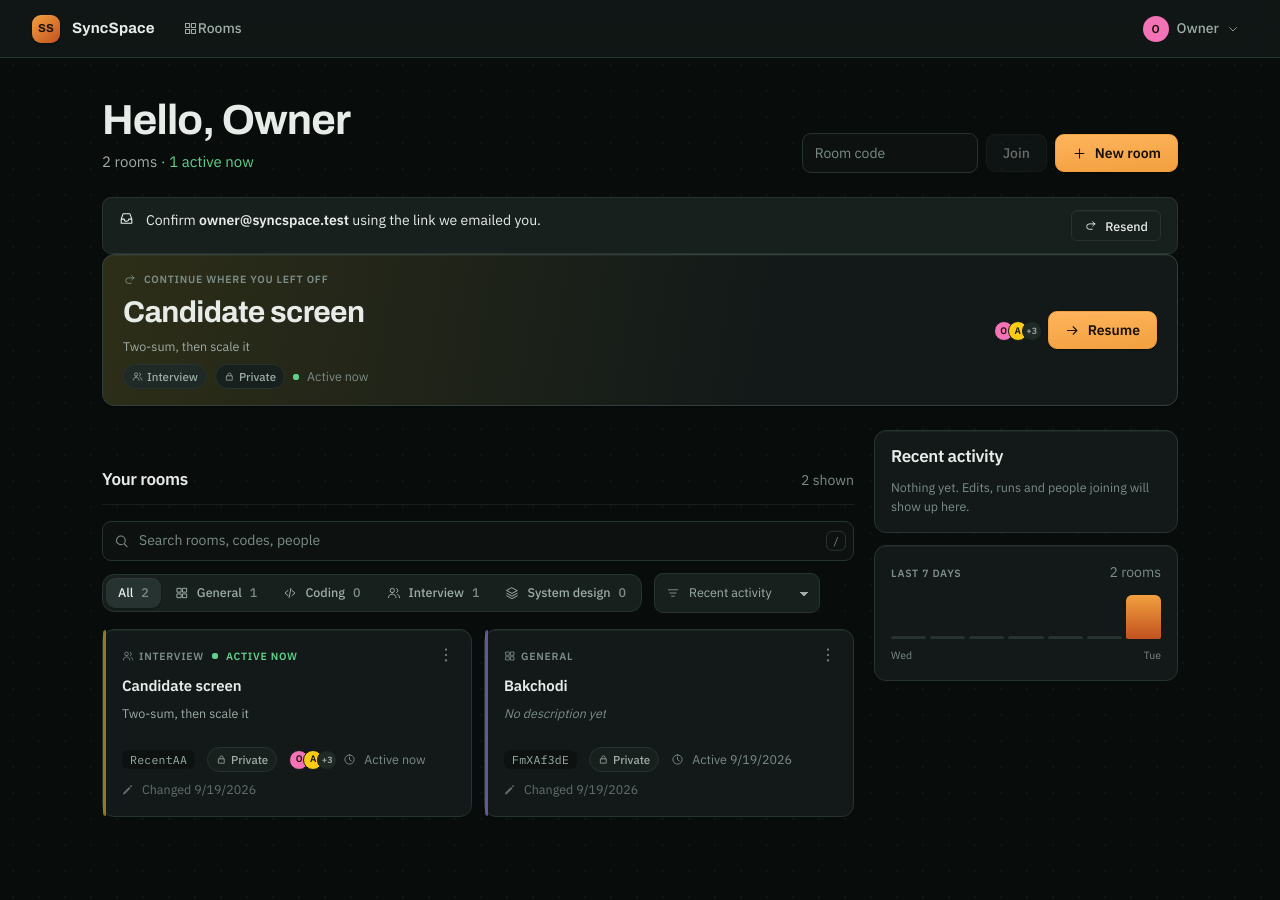
Scenario: dashboard as a workspace › filters by what a room is for
The width and height of the screenshot is (1280, 900).
Expected: the text "Bakchodi" is shown, [504,674,568,697]
What coordinates should you click on to do the following:
click the tab "Interview 1"
I would click on:
 (433, 593)
Its box is [374,578,491,608].
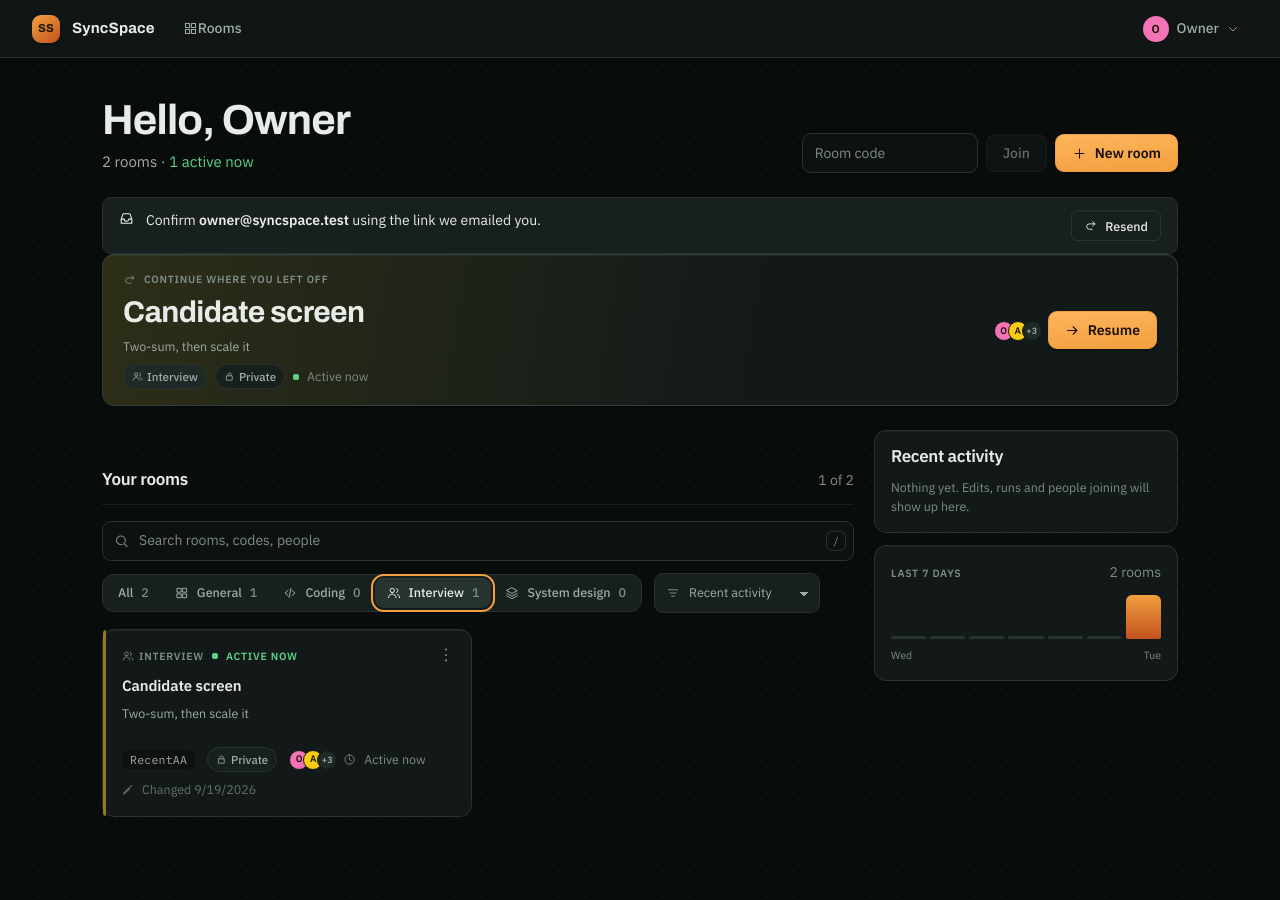
Expected: the text "Candidate screen" is shown, [122,674,241,697]
Now the button "Bakchodi" is gone
